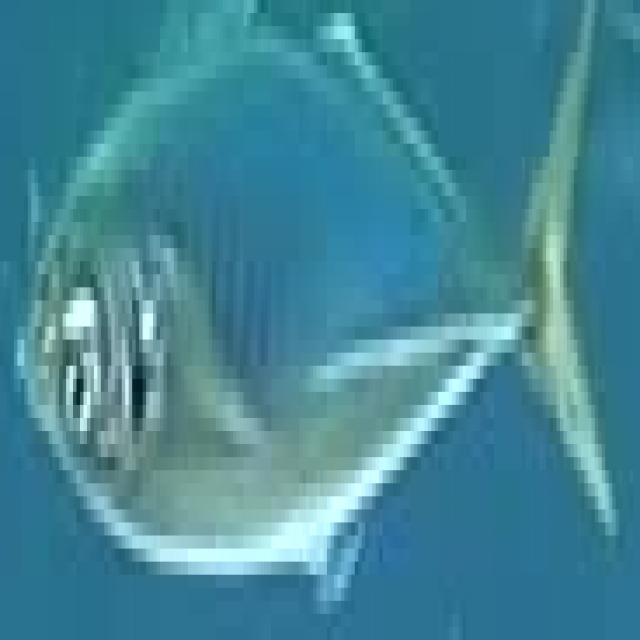fish: (3, 0, 640, 627)
